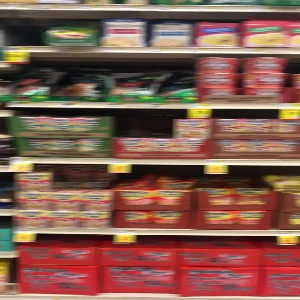void: (1, 11, 44, 51)
